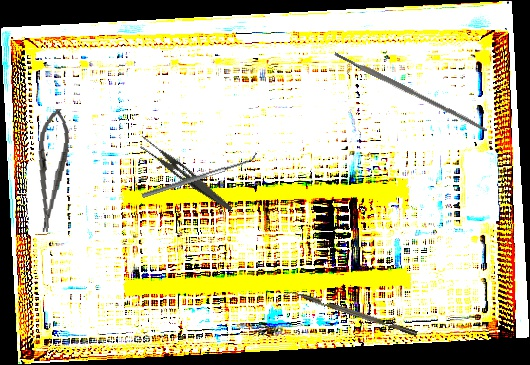Chopper: (282, 286, 418, 343)
Dressing Forceps: (133, 134, 240, 212)
Needle Holder: (29, 107, 73, 234)
Scalpel Handle: (333, 49, 489, 134)
Spatula Surgical: (140, 151, 259, 199)
